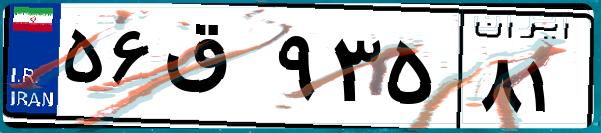1: (525, 38, 570, 115)
3: (330, 28, 385, 110)
5: (385, 28, 445, 110), (57, 26, 110, 100)
6: (110, 28, 158, 98)
8: (475, 38, 525, 113)
9: (270, 28, 330, 110)
ق: (158, 20, 270, 120)
